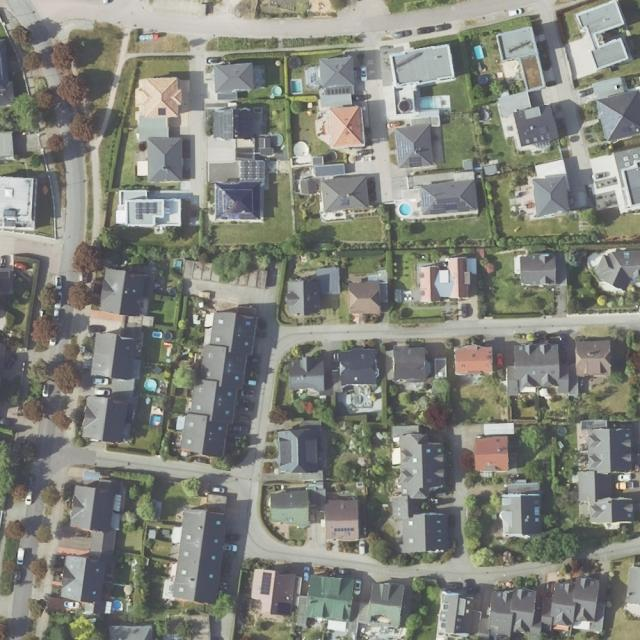PV: (430, 196, 470, 214), (215, 182, 234, 219), (395, 133, 412, 163), (240, 161, 264, 180), (135, 202, 156, 220), (423, 191, 431, 211), (409, 157, 422, 167), (333, 527, 354, 532)
ST: (260, 571, 272, 595), (340, 197, 349, 207), (158, 108, 166, 115)
